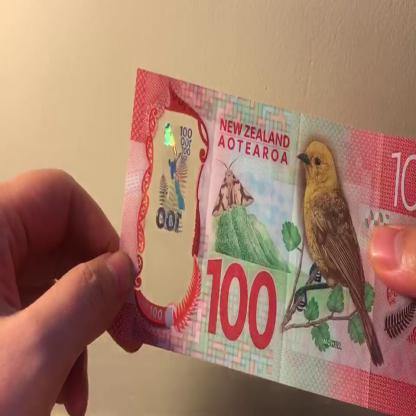100B: (154, 117, 194, 274)
